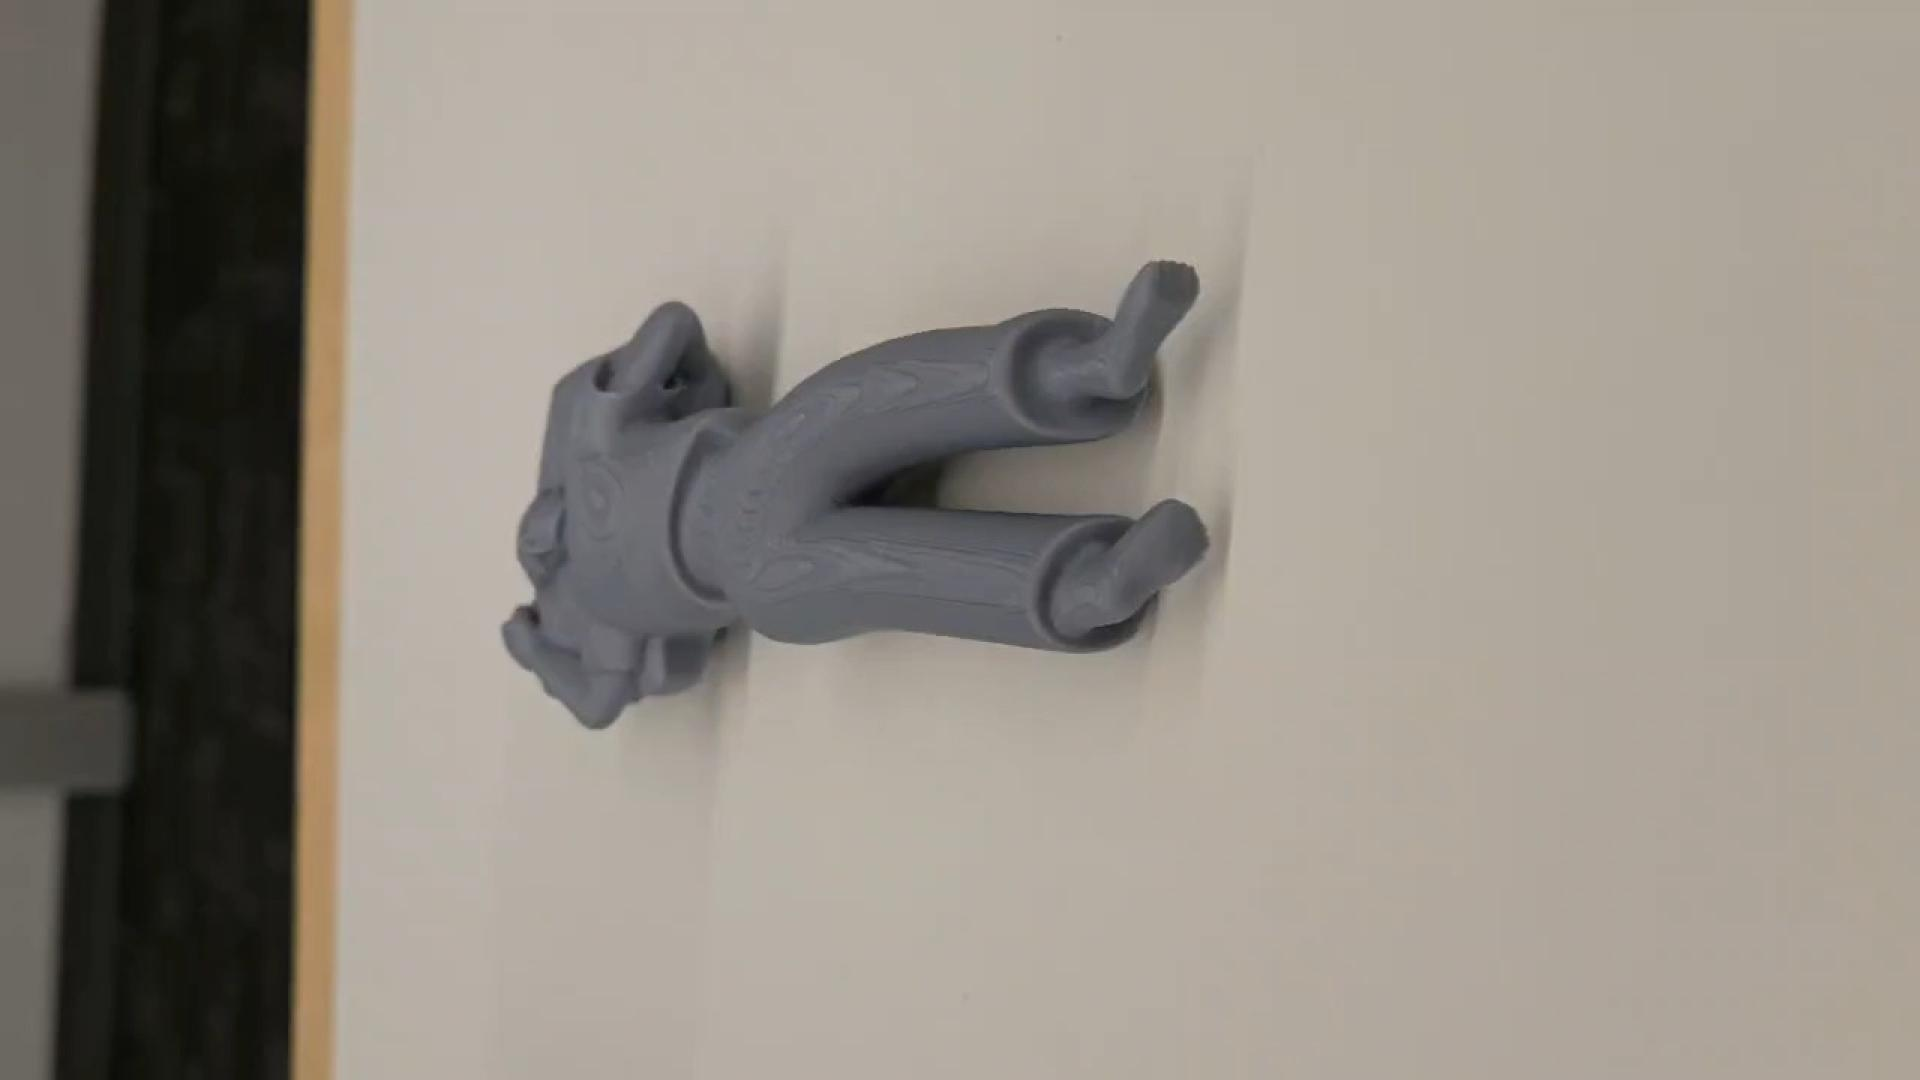Bad-style: (508, 249, 1218, 742)
